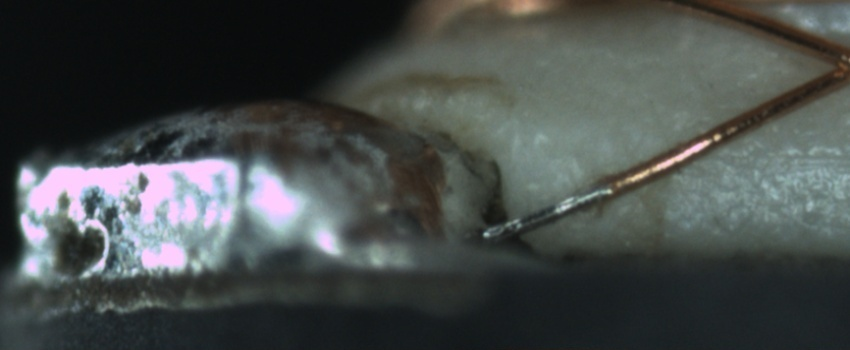CL: (803, 31, 849, 94)
DL: (696, 126, 849, 187)
TS: (479, 181, 607, 242)
